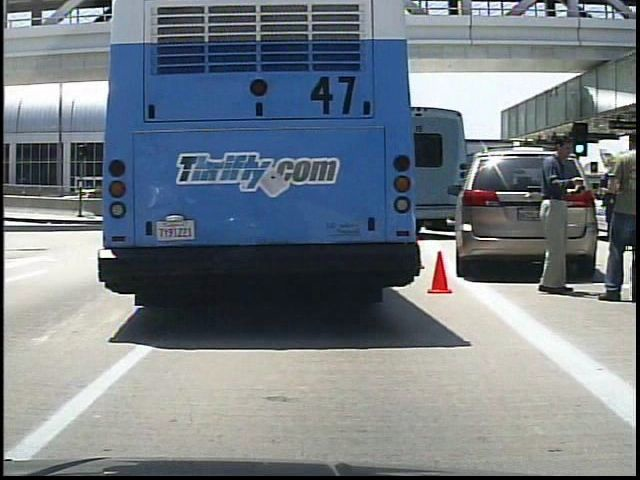person: (534, 127, 598, 305), (596, 124, 638, 299)
